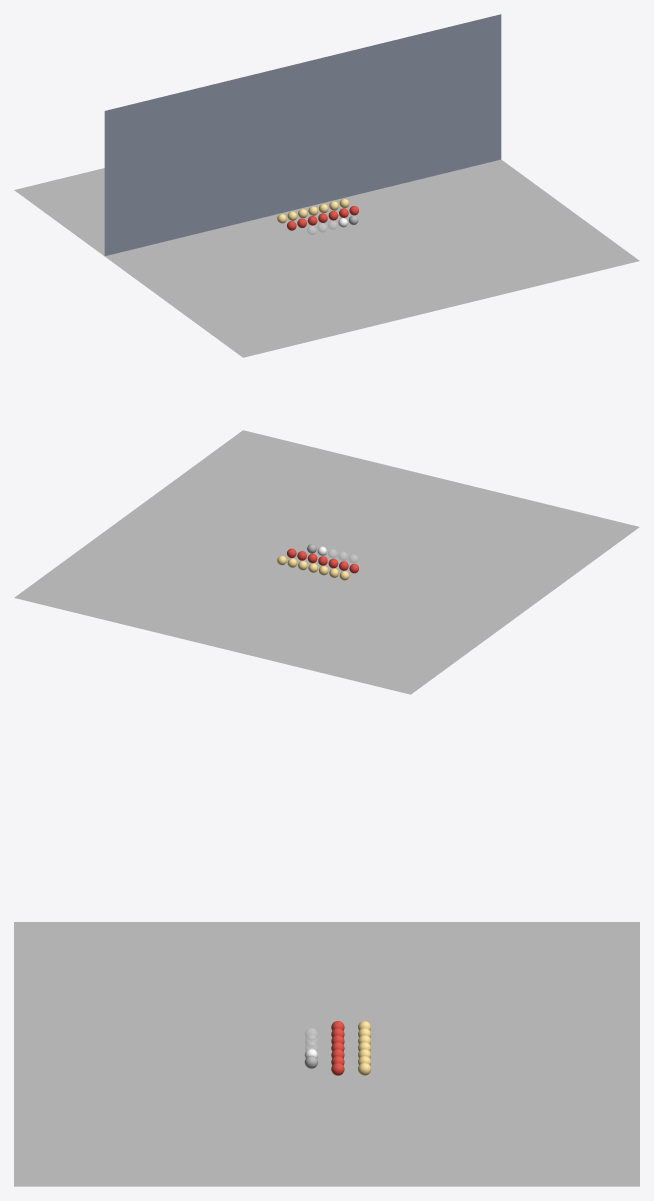
Rendered from MaterialRow.glb.
3 views of the same model, one above another, from view 1: azimuth 30°, elevation 25°; view 2: azimuth 150°, elevation 25°; view 3: azimuth 270°, elevation 25° (orthographic). The views are drawn at different scales.
Parts seen in each view (by area): view 1: wall, floor; view 2: floor; view 3: floor.
Part boxes in pixels (x1,y1,x2,y2): wall: [104, 14, 501, 255]; floor: [14, 159, 639, 357]; floor: [14, 430, 639, 694]; floor: [14, 922, 639, 1186].
Bounding box in the file's own units: 40 × 14 × 40.
